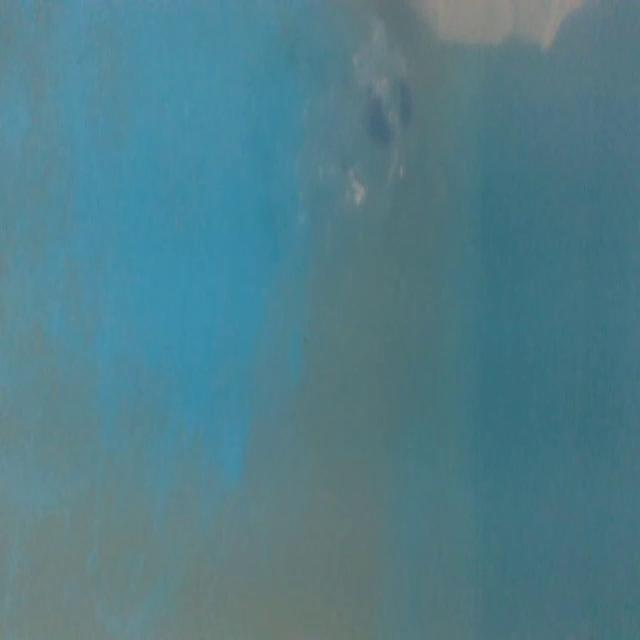plastic bags: (252, 36, 419, 230)
